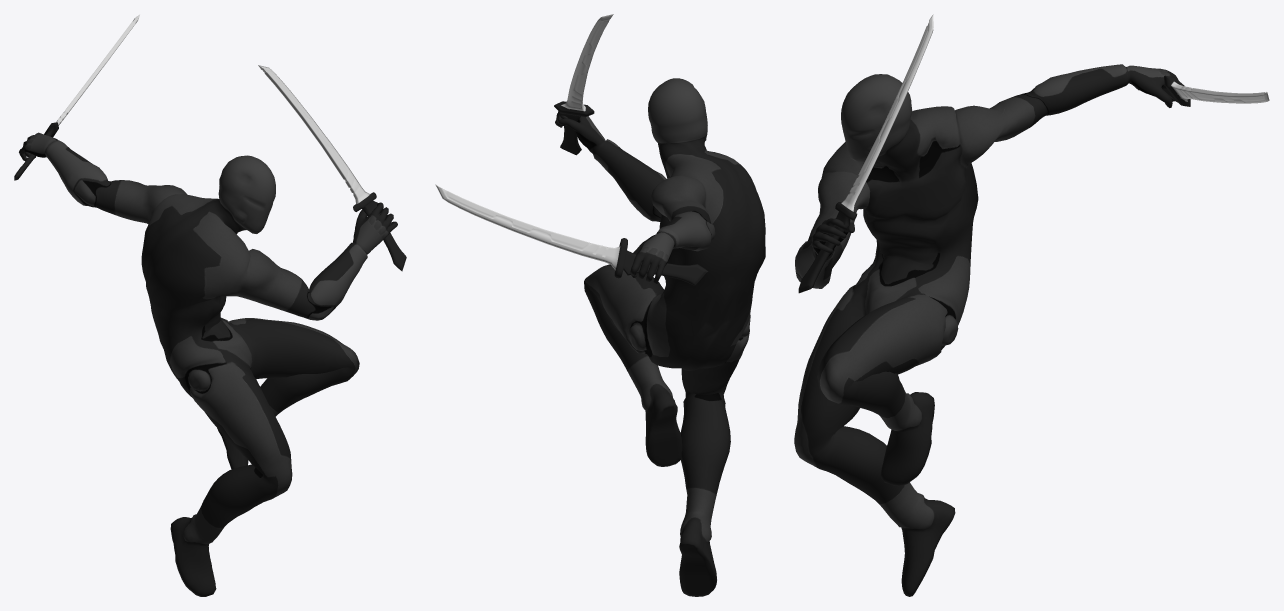
3 views of the same model, side by side, from view 1: azimuth 30°, elevation 25°; view 2: azimuth 150°, elevation 25°; view 3: azimuth 270°, elevation 25° (orthographic). The views are drawn at different scales.
Visible parts, largest first — view 1: Cyborg_Ninja_Killer, Sword_l001, Sword_l; view 2: Cyborg_Ninja_Killer, Sword_l, Sword_l001; view 3: Cyborg_Ninja_Killer, Sword_l001, Sword_l.
Part boxes in pixels (x1=…): Cyborg_Ninja_Killer: x1=19, y1=132, x2=397, y2=596; Sword_l001: x1=258, y1=65, x2=406, y2=271; Sword_l: x1=14, y1=14, x2=139, y2=180; Cyborg_Ninja_Killer: x1=555, y1=78, x2=765, y2=596; Sword_l: x1=435, y1=184, x2=708, y2=285; Sword_l001: x1=554, y1=14, x2=613, y2=155; Cyborg_Ninja_Killer: x1=794, y1=64, x2=1184, y2=596; Sword_l001: x1=798, y1=14, x2=933, y2=293; Sword_l: x1=1133, y1=75, x2=1269, y2=106.
Bounding box in the file's own units: 105 × 196 × 137.
Materials: 2 (2 with a texture image).
